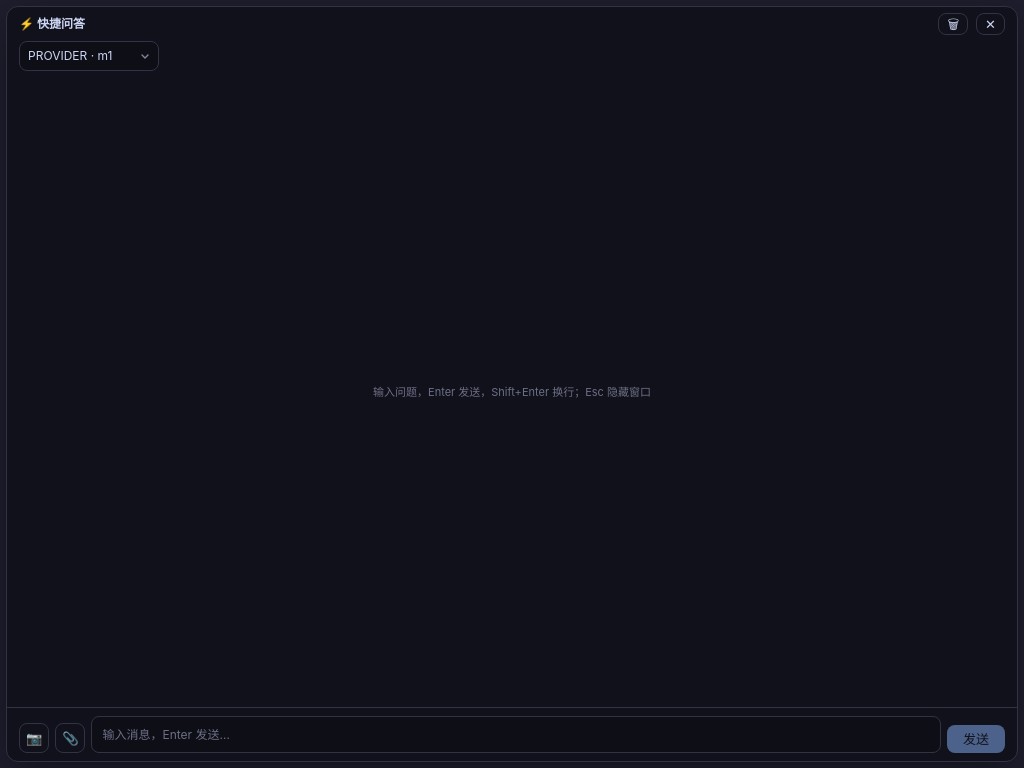
Test: P1-4 ④ 浮窗内 📷 入口：同一条附件链路，目标三选一 › 主进程回「权限被拒」⇒ 原因上屏，附件栏不动
What coordinates should you click on to do the following:
click the button with test id "popup-capture"
I would click on:
 (34, 738)
Its box is [19,723,49,753].
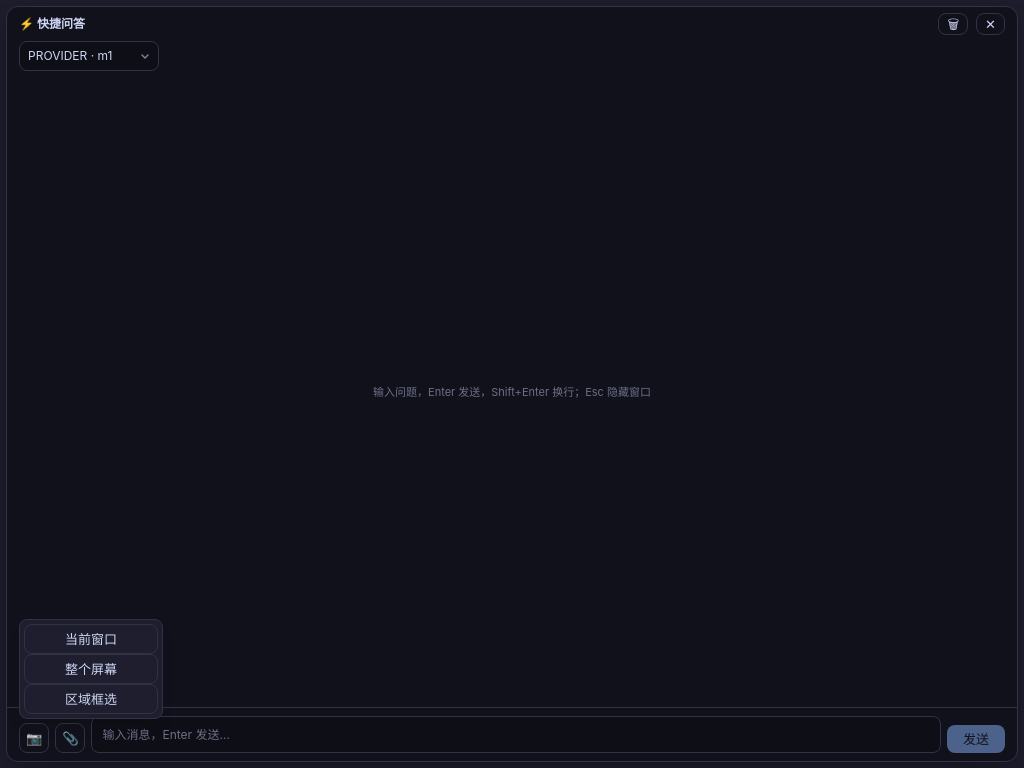
What coordinates should you click on to do the following:
click the button with test id "popup-capture-window"
I would click on:
 (91, 639)
Its box is [24,624,158,654].
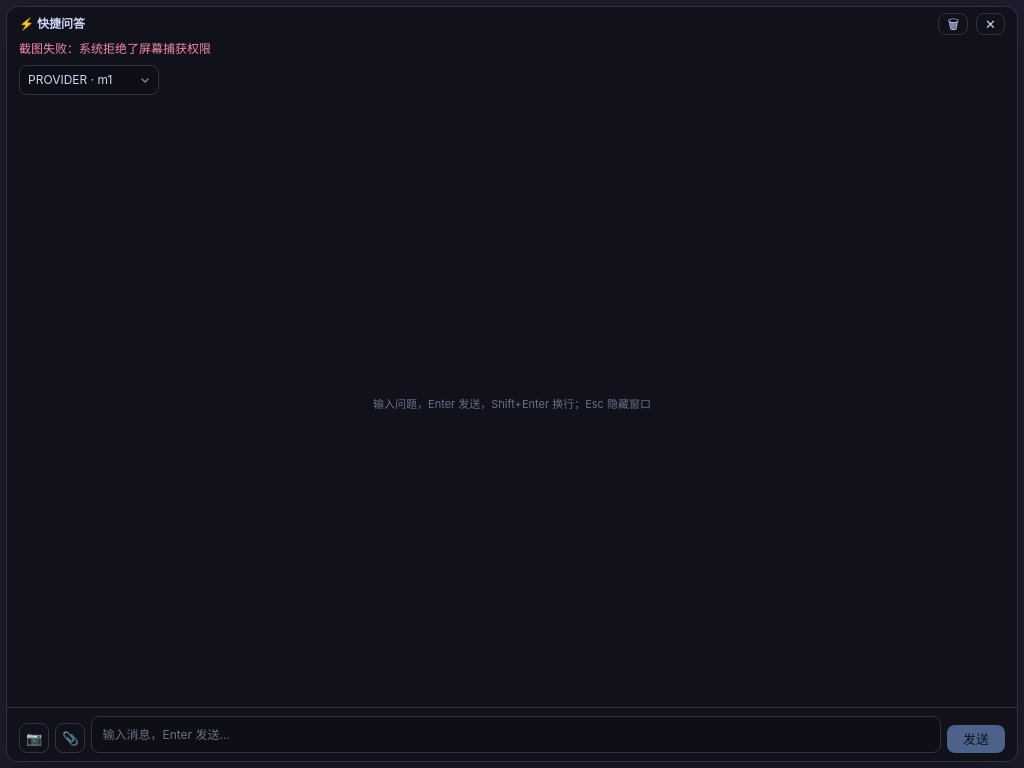
Check: the message with test id "popup-capture-error" shows "系统拒绝了屏幕捕获权限", box [19,41,211,56]
